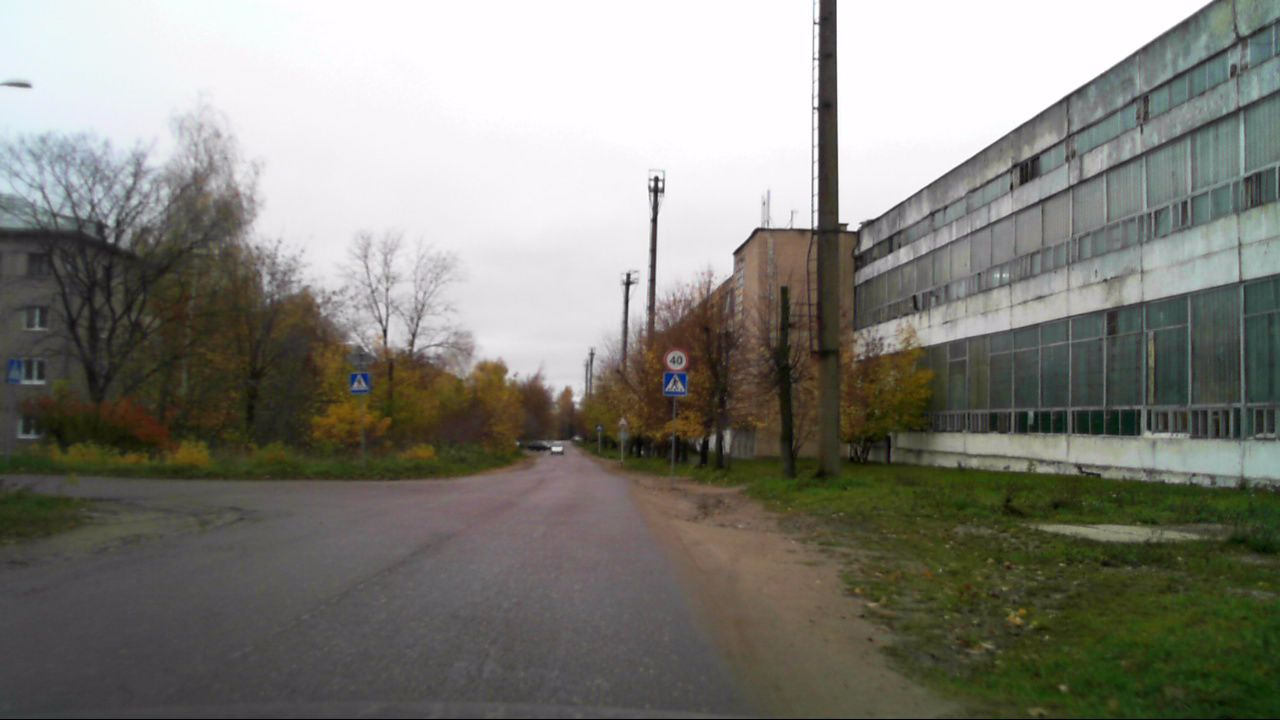speed_warning_40: (662, 345, 689, 373)
